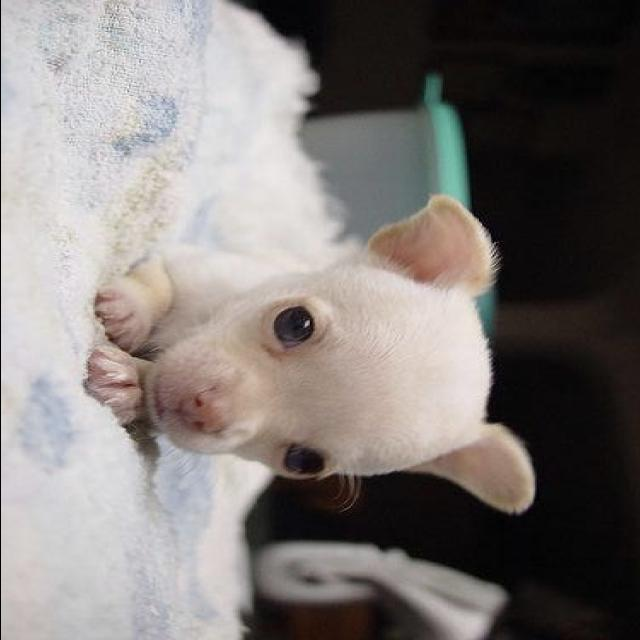chihuahua: (86, 193, 536, 515)
